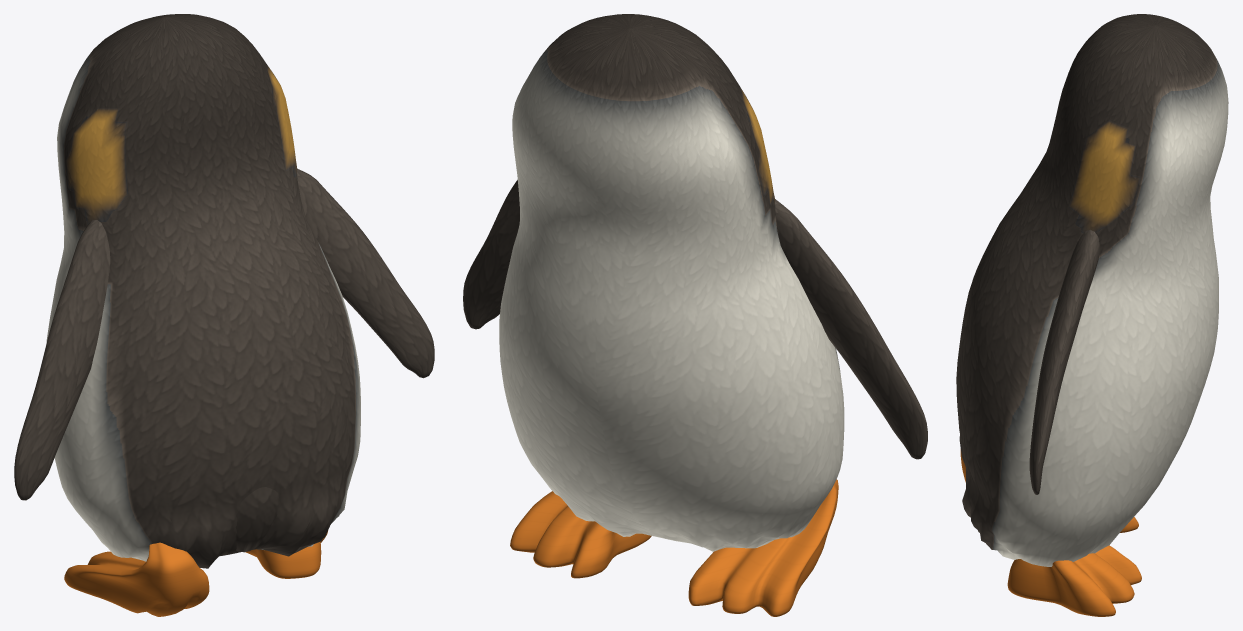
Rendered from candidate.glb.
3 renders of one model, left to right at view 1: azimuth 30°, elevation 25°; view 2: azimuth 150°, elevation 25°; view 3: azimuth 270°, elevation 25°, orthographic. The views are drawn at different scales.
Parts seen in each view (by area): view 1: RearBlockout; view 2: RearBlockout; view 3: RearBlockout.
Part boxes in pixels (left/top/right/bottom): RearBlockout: left=14, top=14, right=434, bottom=616; RearBlockout: left=463, top=14, right=927, bottom=616; RearBlockout: left=956, top=14, right=1228, bottom=616.
Size of the model in its own units: 1.42 by 1.69 by 0.7874.
Materials: 1 (1 with a texture image).
